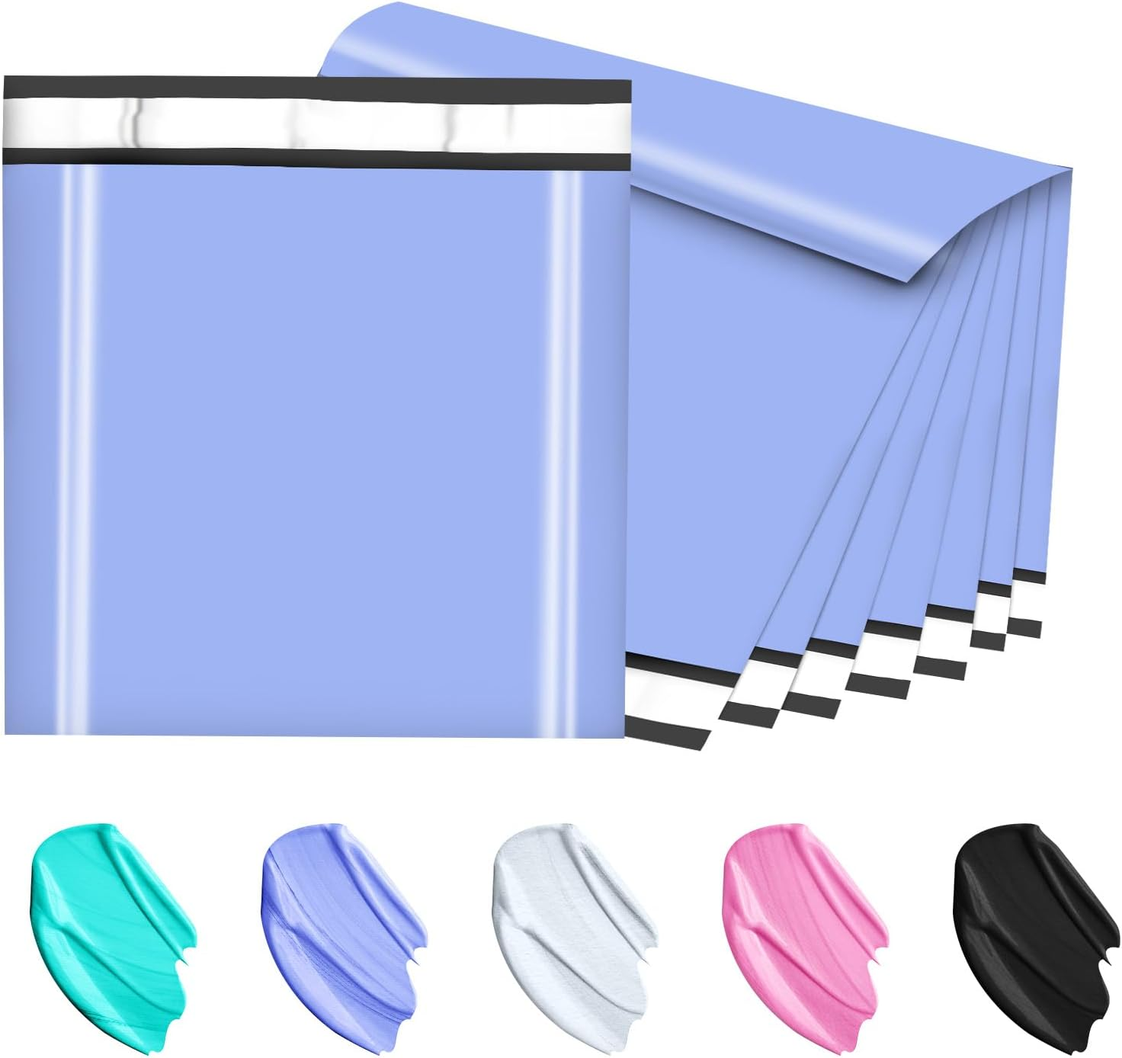塑料袋: (325, 1, 1074, 753), (2, 76, 630, 738)
